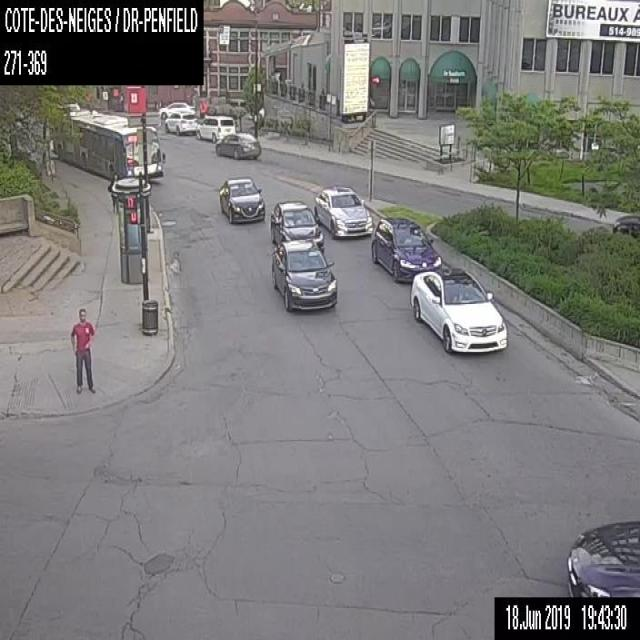bus: (53, 102, 165, 182)
pedestrian: (70, 308, 95, 392), (108, 171, 120, 212)
vehicle: (409, 267, 507, 352), (565, 517, 639, 596), (270, 239, 336, 310), (370, 216, 441, 281), (270, 199, 325, 252), (314, 185, 372, 235), (218, 176, 264, 221), (214, 132, 260, 160), (196, 114, 235, 142), (164, 110, 197, 134), (158, 98, 194, 118), (612, 212, 639, 238)
